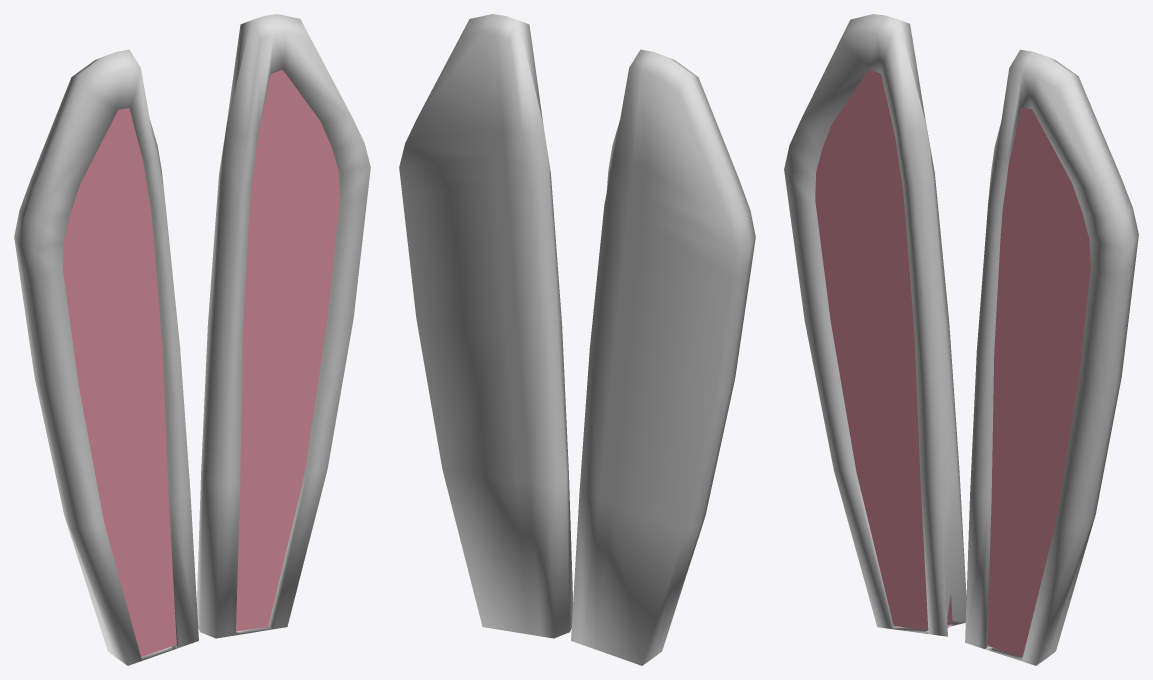
Rendered from usamimi.gltf.
3 views of the same model, side by side, from view 1: azimuth 30°, elevation 25°; view 2: azimuth 150°, elevation 25°; view 3: azimuth 330°, elevation 25° (orthographic).
Visible parts, largest first — view 1: outside, inside; view 2: outside; view 3: outside, inside.
Part boxes in pixels (<box>): outside: <box>14,14,370,665</box>; inside: <box>63,69,339,656</box>; outside: <box>399,14,755,665</box>; outside: <box>784,14,1138,665</box>; inside: <box>815,69,1090,657</box>.
Size of the model in its own units: 2.99 by 5.02 by 0.2994.
